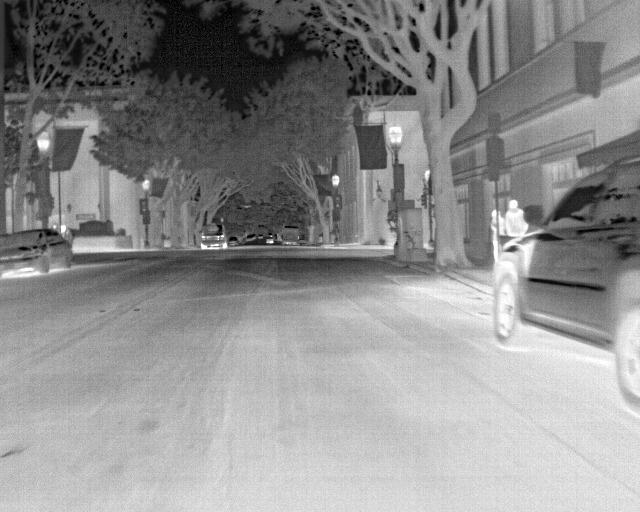bicycle: (490, 155, 637, 411), (0, 225, 74, 274), (200, 221, 229, 250), (281, 223, 300, 246), (264, 236, 277, 248)
empty: (502, 197, 529, 234)
